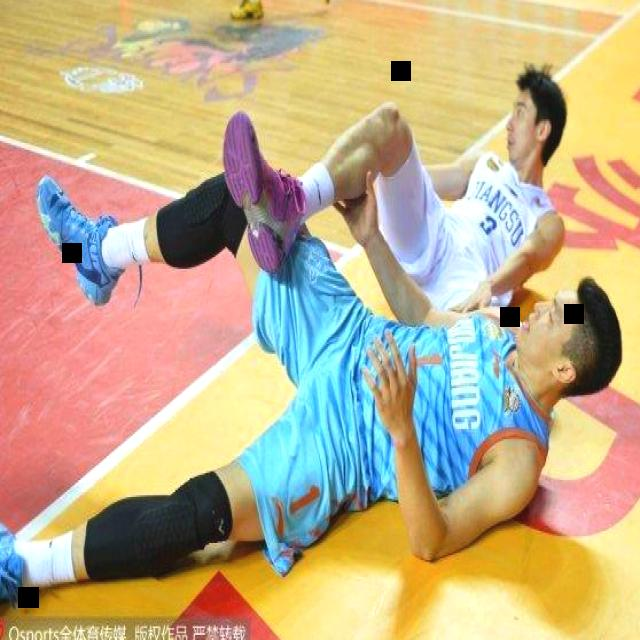Fall-Detected: (0, 134, 611, 619)
